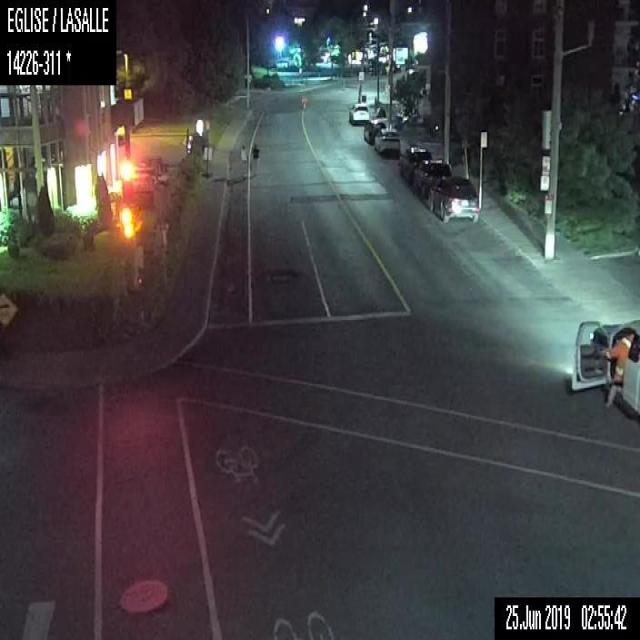pedestrian: (601, 331, 634, 405), (251, 141, 260, 177), (238, 142, 247, 176)
vehicle: (569, 318, 639, 422), (429, 178, 480, 222), (412, 158, 452, 204), (398, 144, 433, 184), (373, 127, 402, 157), (362, 120, 387, 144), (348, 102, 369, 123)
